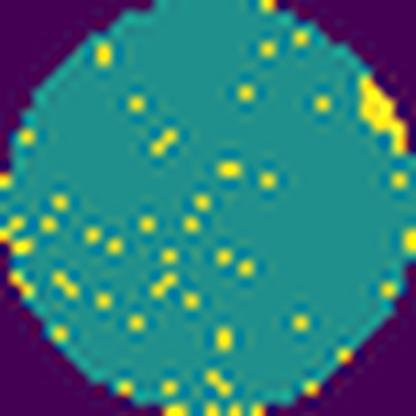Edge-Loc: (354, 66, 416, 153)
